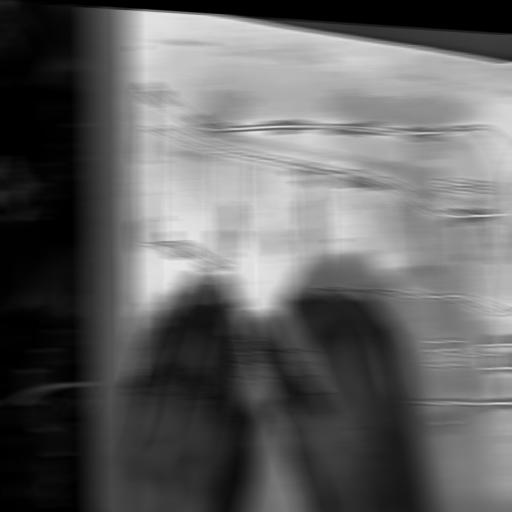bus: (90, 76, 512, 447)
